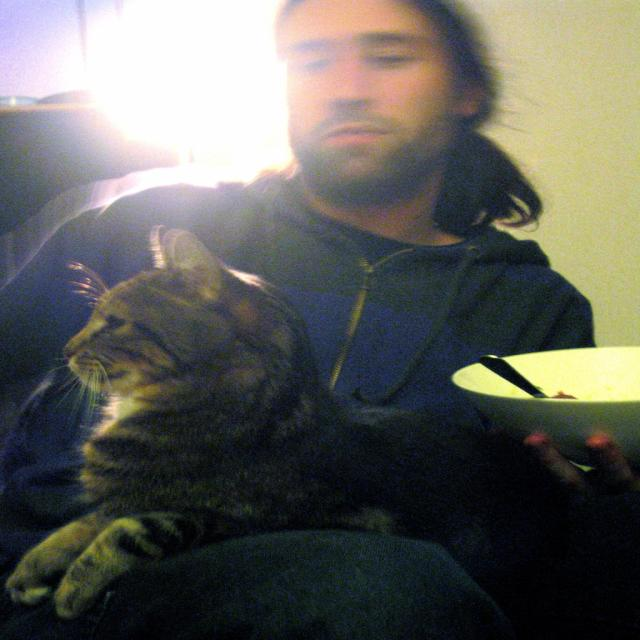Cat: (6, 225, 398, 619)
